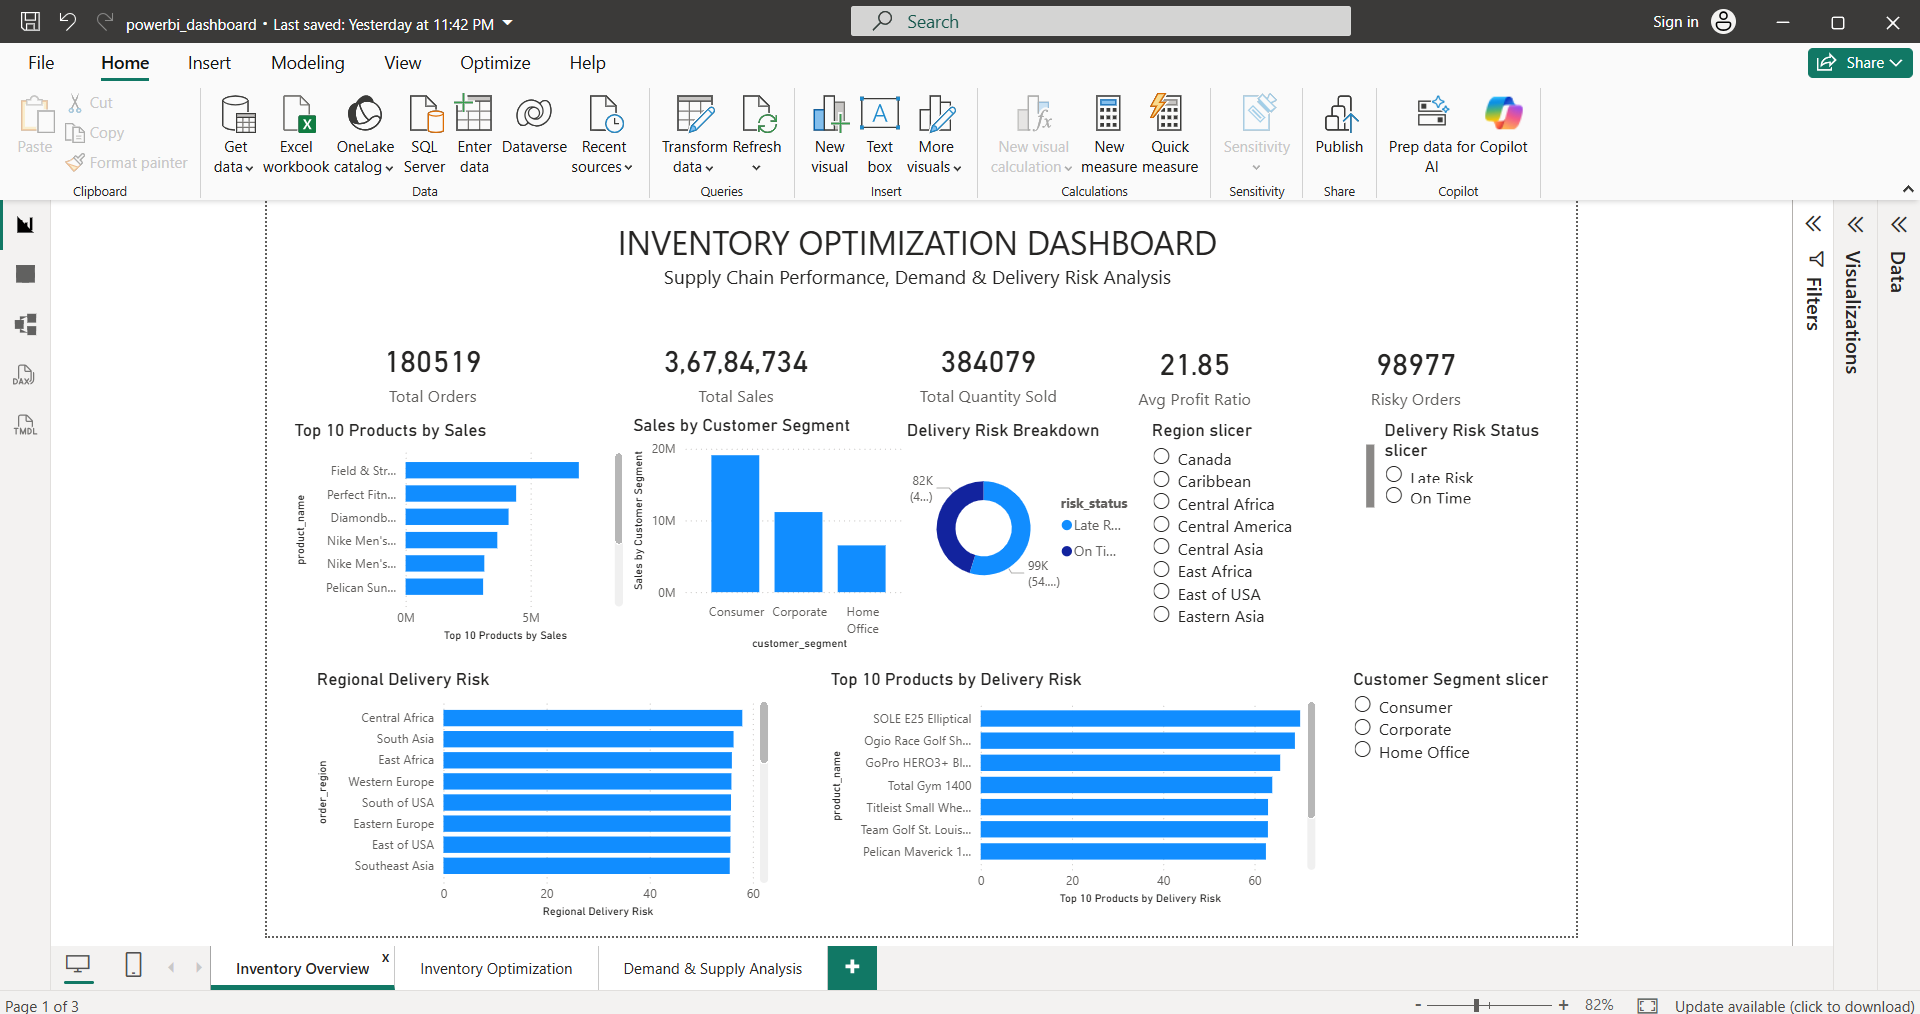

This screenshot's page, from the dashboard's own definition file:
{"tool":"powerbi","page":{"name":"Inventory Overview","canvas":[1280,720],"ordinal":0},"visuals":[{"type":"card","fields":{"Values":["Sum(delivery_analysis.total_orders)"]},"box":[74.3,110,175.7,114.3],"z":0},{"type":"card","fields":{"Values":["Sum(delivery_analysis.total_sales)"]},"box":[370,110,177.1,114.3],"z":1000},{"type":"card","fields":{"Values":["Sum(segment_analysis.total_quantity_sold)"]},"box":[610,110,191.4,114.3],"z":2000},{"type":"card","fields":{"Values":["Avg(segment_analysis.avg_profit_ratio)"]},"box":[814.7,113.2,186.8,113.2],"z":3000},{"type":"card","fields":{"Values":["Sum(delivery_analysis.total_orders)"]},"box":[983.8,113.2,279.4,113.2],"z":4000},{"type":"textbox","box":[10.3,14.7,1252.9,98.5],"z":5000},{"type":"clusteredBarChart","title":"Top 10 Products by Sales","fields":{"Category":["product_analysis.product_name"],"Y":["Sum(product_analysis.total_sales)"]},"box":[21.4,215.7,331.4,221.4],"z":6000},{"type":"clusteredColumnChart","title":"Sales by Customer Segment","fields":{"Category":["segment_analysis.customer_segment"],"Y":["Sum(segment_analysis.total_sales)"]},"box":[352.9,210,284.3,234.3],"z":7000},{"type":"clusteredBarChart","title":"Regional Delivery Risk","fields":{"Category":["region_analysis.order_region"],"Y":["Sum(region_analysis.risk_percentage)"]},"box":[44.3,458.6,451.4,248.6],"z":8000},{"type":"donutChart","title":"Delivery Risk Breakdown","fields":{"Category":["delivery_analysis.risk_status"],"Y":["Sum(delivery_analysis.total_orders)"]},"box":[621.4,215.7,240,192.9],"z":9000},{"type":"clusteredBarChart","title":"Top 10 Products by Delivery Risk","fields":{"Category":["product_analysis.product_name"],"Y":["Sum(product_analysis.risk_percentage)"]},"box":[547.1,458.6,484.3,235.7],"z":10000},{"type":"listSlicer","title":"Customer Segment slicer","fields":{"Values":["segment_analysis.customer_segment"]},"box":[1057.1,458.6,207.1,204.3],"z":11000},{"type":"listSlicer","title":"Region slicer","fields":{"Values":["region_analysis.order_region"]},"box":[861.4,215.7,227.1,204.3],"z":12000},{"type":"listSlicer","title":"Delivery Risk Status slicer","fields":{"Values":["delivery_analysis.risk_status"]},"box":[1088.6,215.7,174.3,211.4],"z":13000}]}

Visuals, with their boxes on the page's 1280x720 design canvas (x1, y1, x2, y2). These are canvas units, not pixel positions in the 1920x1014 screenshot, which may show the page scaled, cropped or inside an application window:
card - Sum(delivery_analysis.total_orders): rect(74, 110, 250, 224)
card - Sum(delivery_analysis.total_sales): rect(370, 110, 547, 224)
card - Sum(segment_analysis.total_quantity_sold): rect(610, 110, 801, 224)
card - Avg(segment_analysis.avg_profit_ratio): rect(815, 113, 1002, 226)
card - Sum(delivery_analysis.total_orders): rect(984, 113, 1263, 226)
textbox: rect(10, 15, 1263, 113)
"Top 10 Products by Sales" clusteredBarChart: rect(21, 216, 353, 437)
"Sales by Customer Segment" clusteredColumnChart: rect(353, 210, 637, 444)
"Regional Delivery Risk" clusteredBarChart: rect(44, 459, 496, 707)
"Delivery Risk Breakdown" donutChart: rect(621, 216, 861, 409)
"Top 10 Products by Delivery Risk" clusteredBarChart: rect(547, 459, 1031, 694)
"Customer Segment slicer" listSlicer: rect(1057, 459, 1264, 663)
"Region slicer" listSlicer: rect(861, 216, 1088, 420)
"Delivery Risk Status slicer" listSlicer: rect(1089, 216, 1263, 427)
